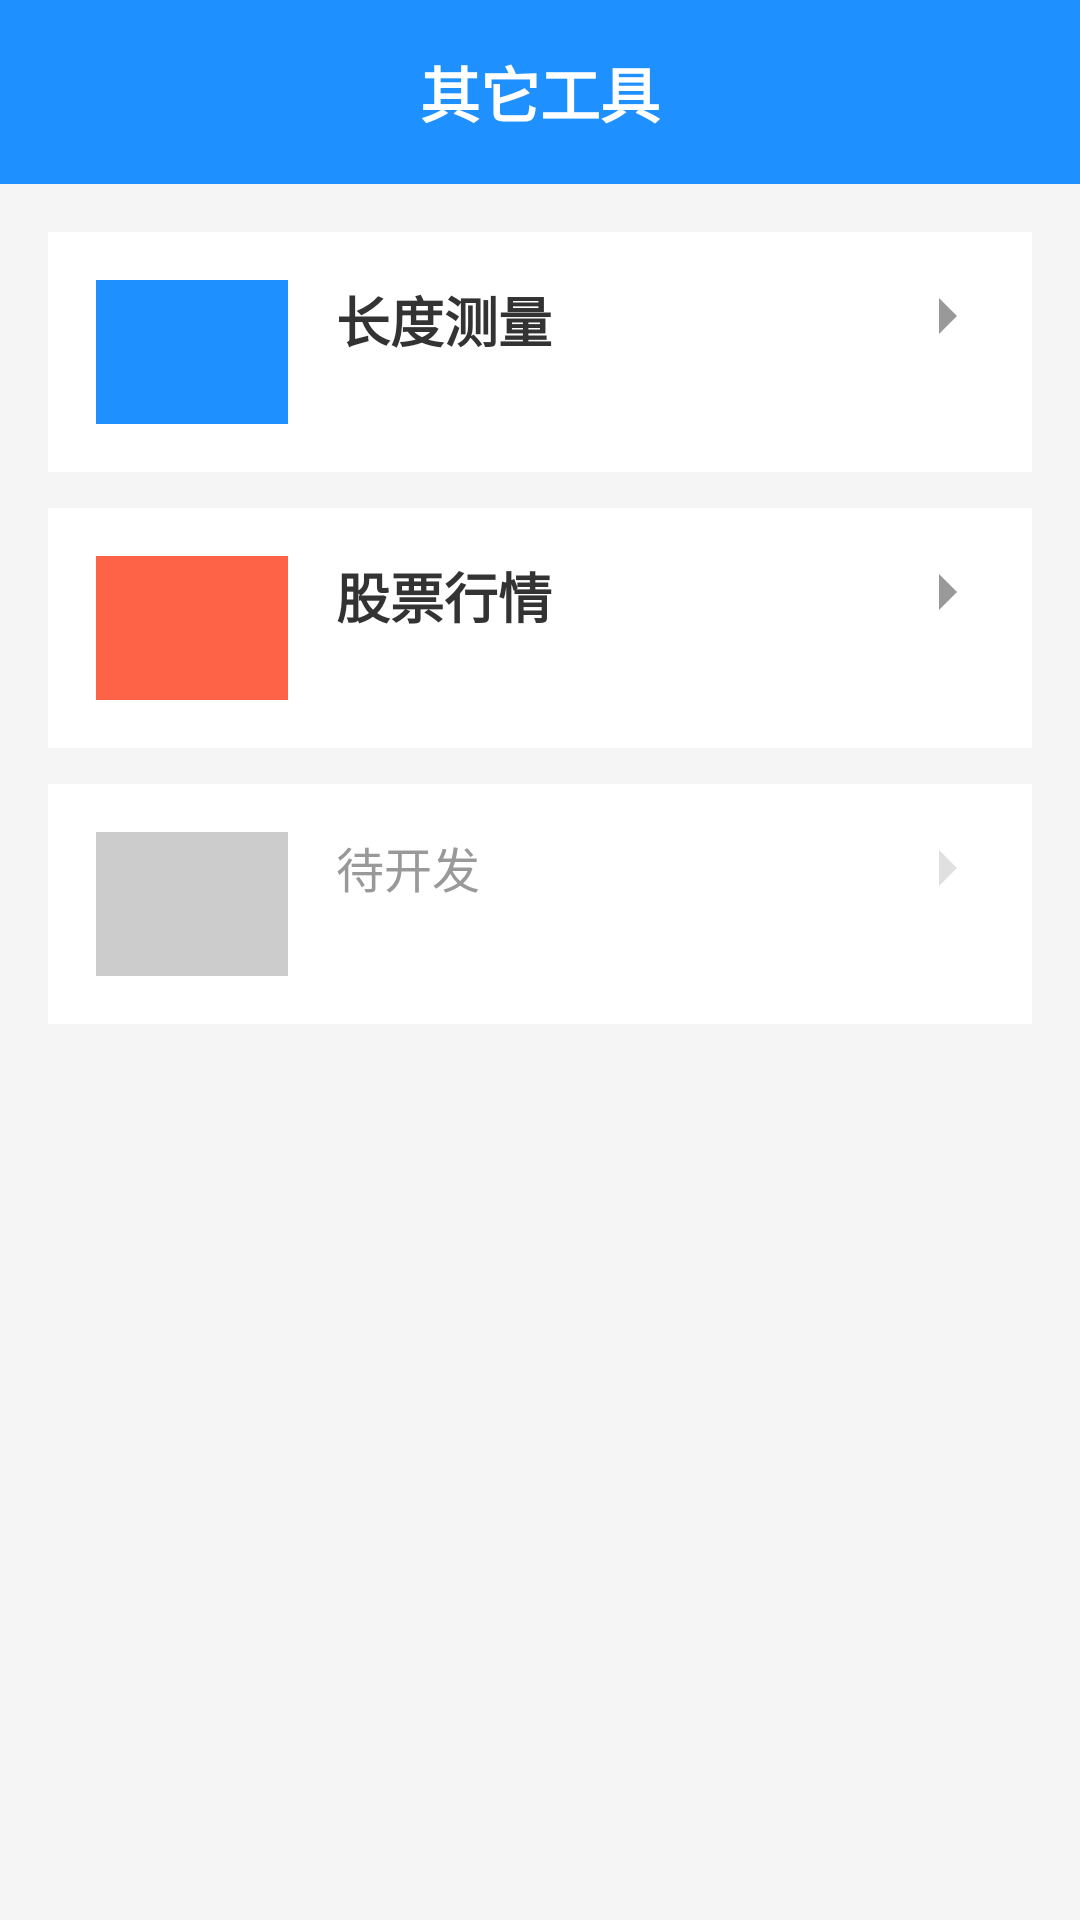

Named icons in this screenshot (1080 x 1920) and their centers, (x=x, y=y):
arrow right: (x=948, y=316), (x=948, y=592), (x=947, y=868)
